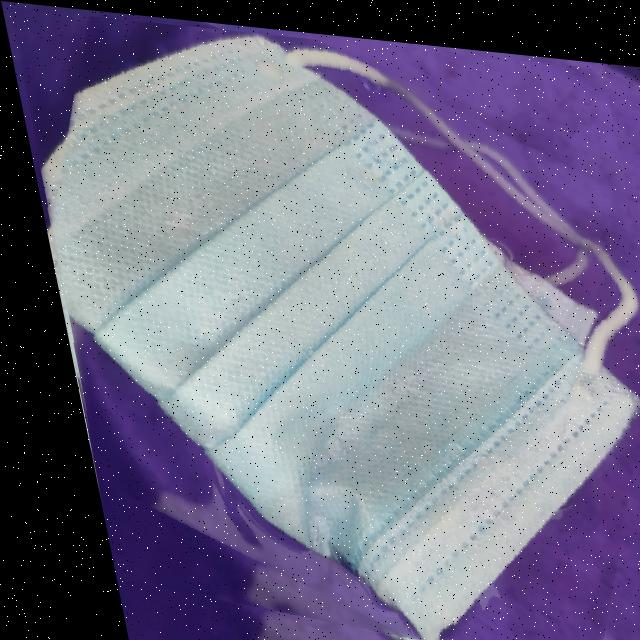mask: (1, 6, 640, 640)
